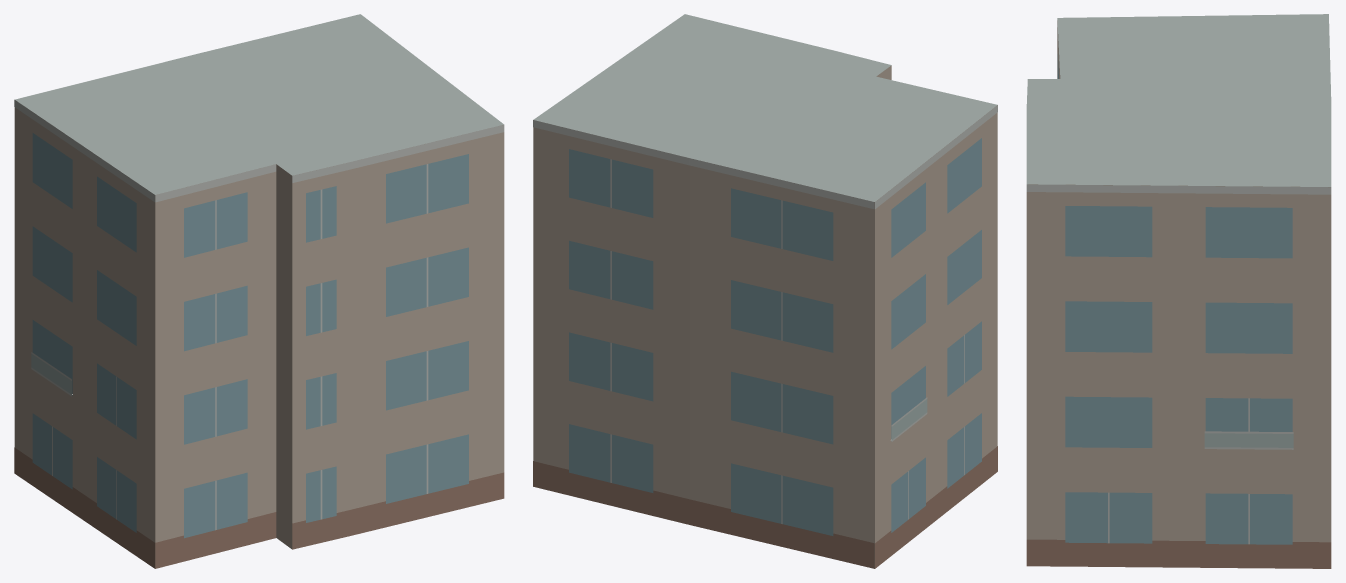
The model's file is survey-upis-32520140.glb.
3 renders of one model, left to right at view 1: azimuth 30°, elevation 25°; view 2: azimuth 150°, elevation 25°; view 3: azimuth 270°, elevation 25°, orthographic. The views are drawn at different scales.
Parts seen in each view (by area): view 1: survey-upis-32520140.tmp; view 2: survey-upis-32520140.tmp; view 3: survey-upis-32520140.tmp.
Boxes of the visible parts, x1,y1,x2,y2 form: survey-upis-32520140.tmp: (14,14,504,568); survey-upis-32520140.tmp: (533,14,997,568); survey-upis-32520140.tmp: (1026,14,1331,568).
Bounding box in the file's own units: 11.88 × 12.2 × 8.85.
